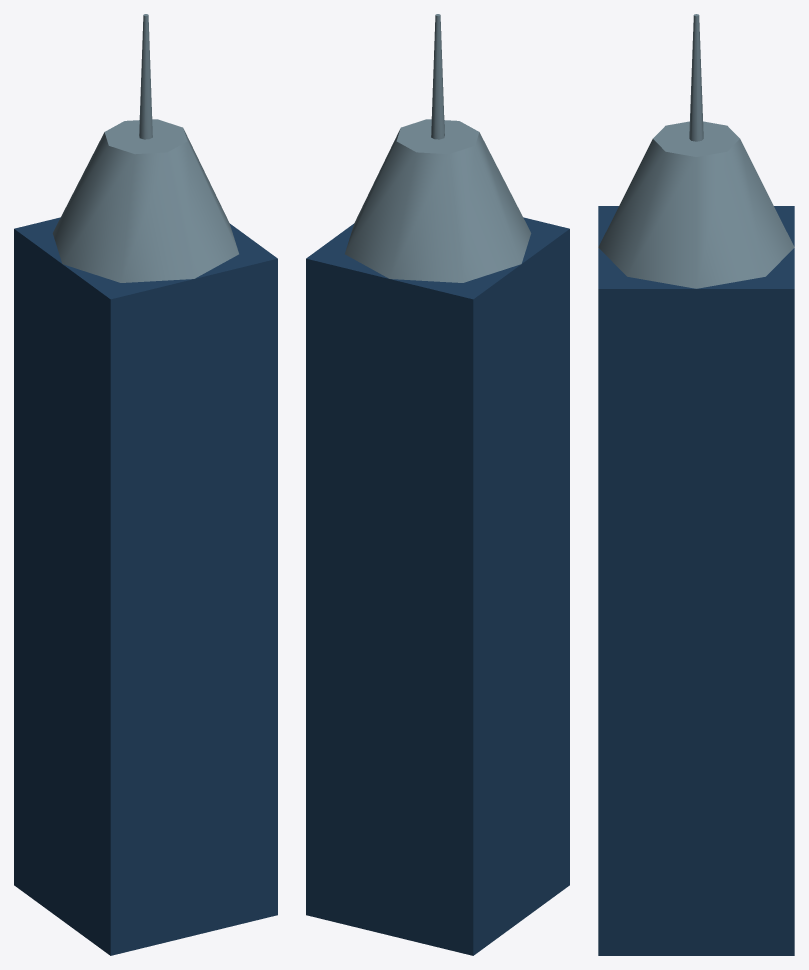
Rendered from central_tower.glb.
3 views of the same model, side by side, from view 1: azimuth 30°, elevation 25°; view 2: azimuth 150°, elevation 25°; view 3: azimuth 270°, elevation 25° (orthographic).
Bounding box in the file's own units: 36 × 182 × 36.
